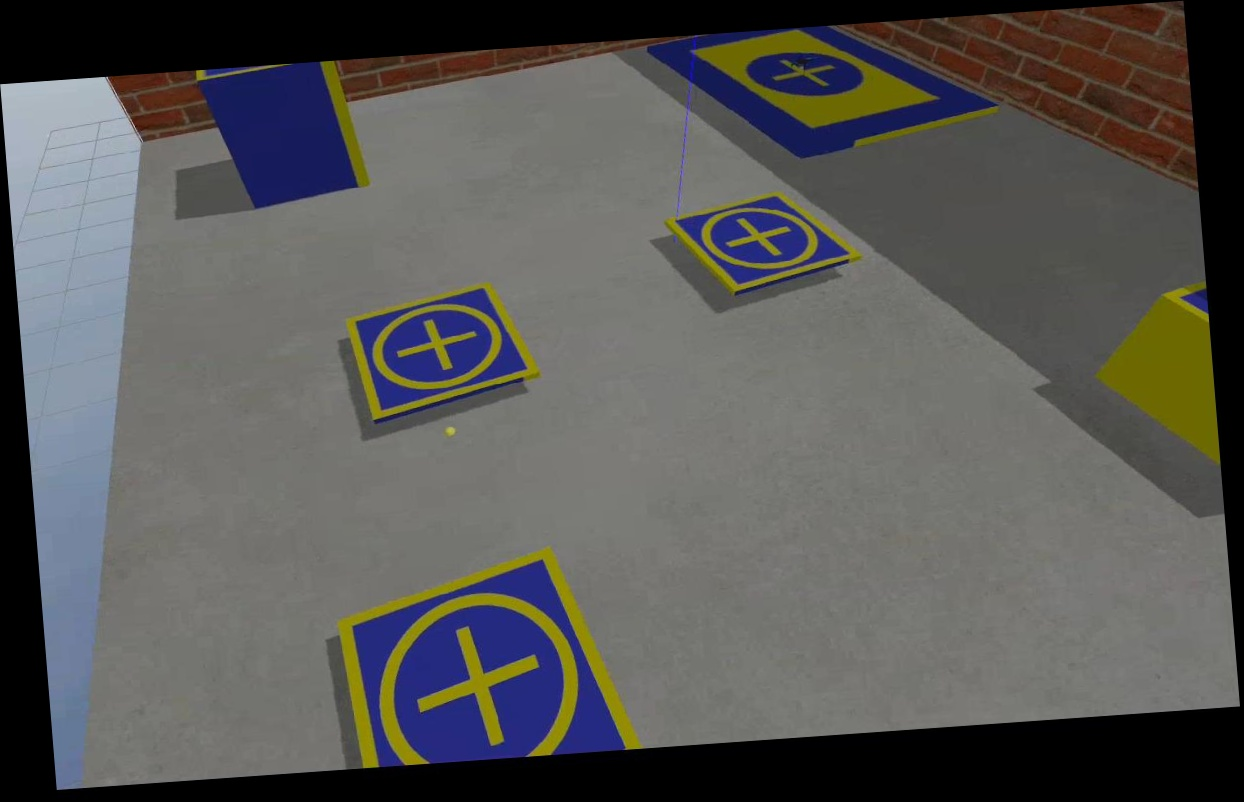large_base: (647, 14, 1002, 171)
small_base: (333, 540, 649, 772), (341, 279, 545, 428), (662, 185, 868, 306)
